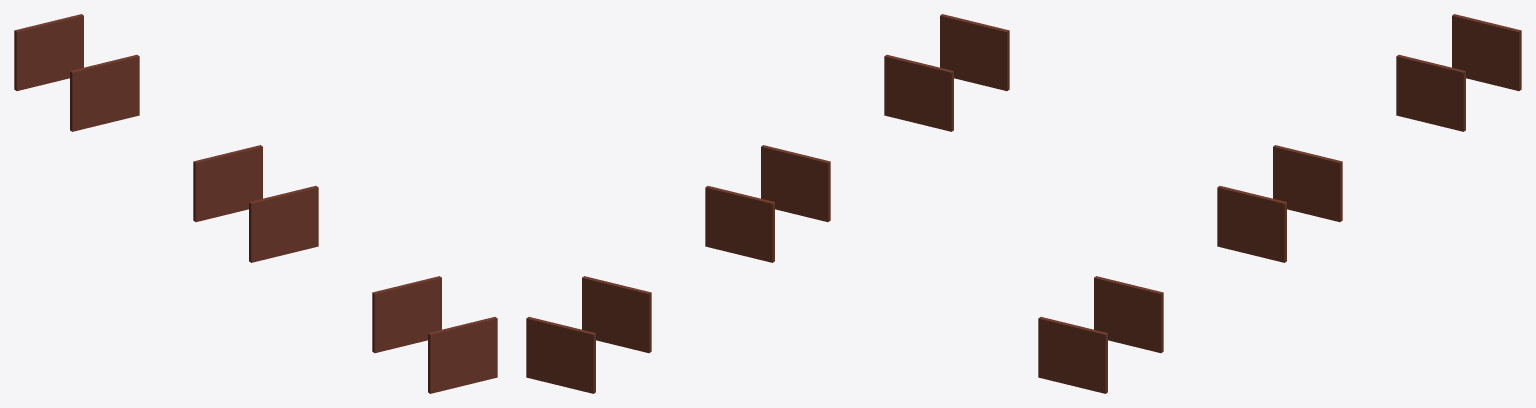
The model's file is lib_frontshelf_bottom.fbx.
3 views of the same model, side by side, from view 1: azimuth 30°, elevation 25°; view 2: azimuth 150°, elevation 25°; view 3: azimuth 330°, elevation 25° (orthographic).
Parts seen in each view (by area): view 1: WoodWall_SelfStudy; view 2: WoodWall_SelfStudy; view 3: WoodWall_SelfStudy.
Boxes of the visible parts, x1,y1,x2,y2 form: WoodWall_SelfStudy: (14,14,497,393); WoodWall_SelfStudy: (526,14,1009,393); WoodWall_SelfStudy: (1038,14,1521,393).
Size of the model in its own units: 512 by 429 by 5475.
